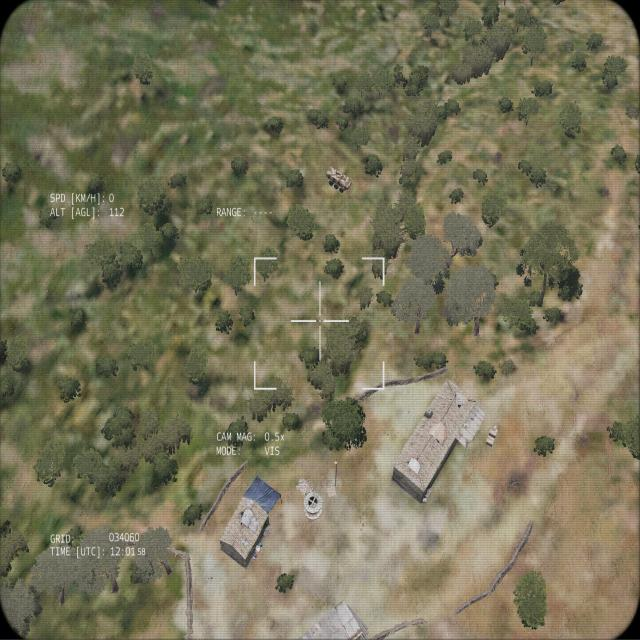apc: (324, 164, 352, 193)
